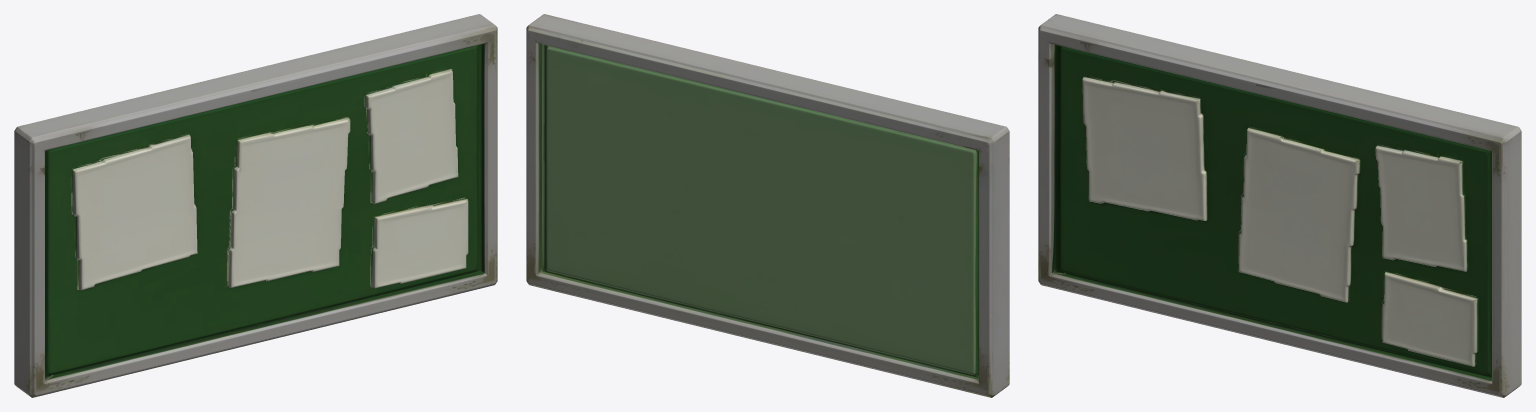
The model's file is board.glb.
3 views of the same model, side by side, from view 1: azimuth 30°, elevation 25°; view 2: azimuth 150°, elevation 25°; view 3: azimuth 330°, elevation 25° (orthographic).
Parts seen in each view (by area): view 1: material; view 2: material; view 3: material.
Part boxes in pixels (box(x1,y1,x2,y2)): material: box(14, 14, 497, 397); material: box(526, 14, 1009, 397); material: box(1038, 14, 1521, 397).
Size of the model in its own units: 1.06 by 0.5658 by 0.076.
1 material, 1 textured.
